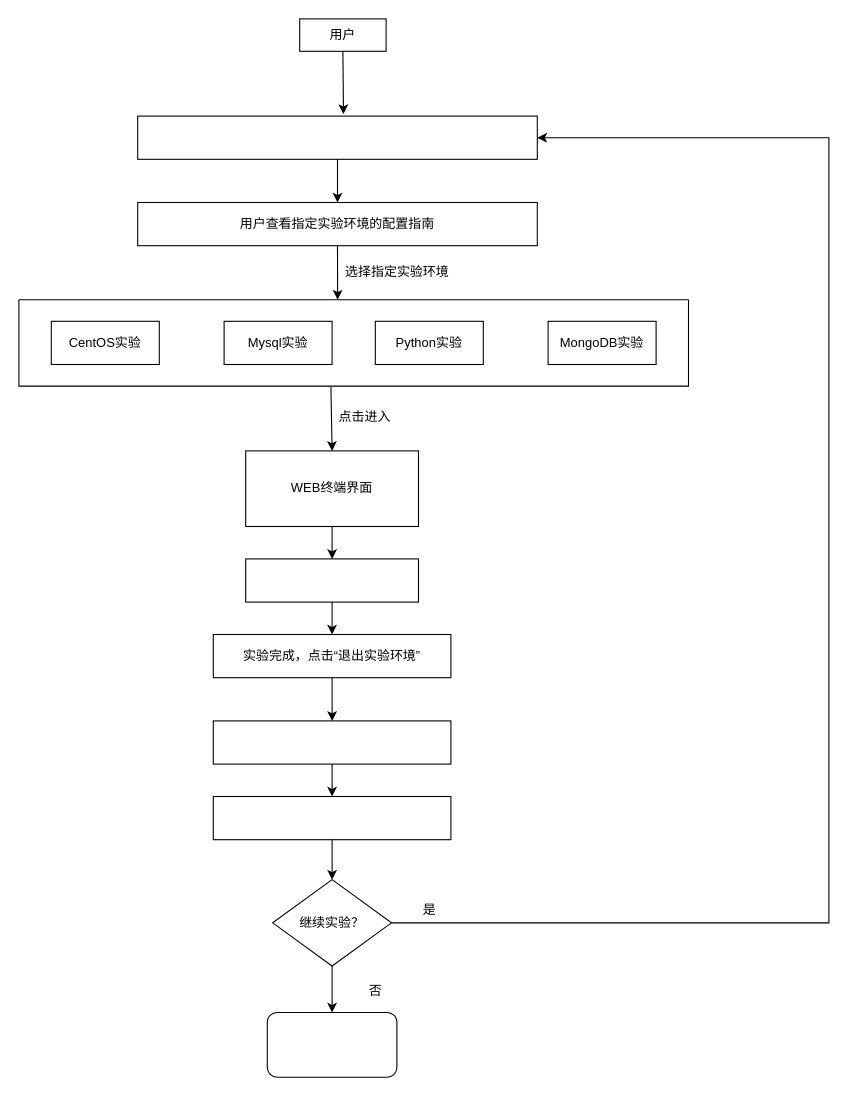
Image size: 856x1096. Some labels were removed from this diagram. Each missing label, with the centre of its shape:
"本次实验结束，记录实验历史" belongs at [331,742].
"用户开始进行当前实验" belongs at [331,580].
"用户查看“实验记录”" belongs at [331,817].
"用户查看实验指导书(实验台教程)" belongs at [337,137].
"结束" belongs at [331,1044].
